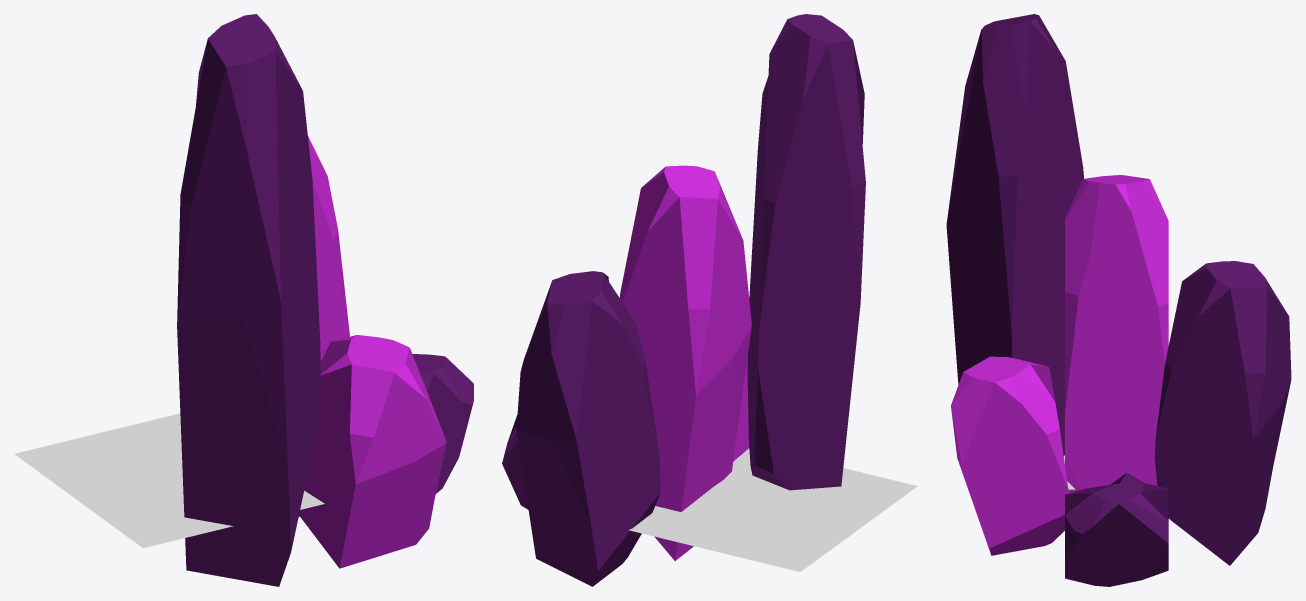
Rendered from rocks.fbx.
3 renders of one model, left to right at view 1: azimuth 30°, elevation 25°; view 2: azimuth 150°, elevation 25°; view 3: azimuth 270°, elevation 25°, orthographic. The views are drawn at different scales.
Visible parts, largest first — view 1: rock1, Plane; view 2: rock1, Plane; view 3: rock1.
Part boxes in pixels (x1=…): rock1: x1=177, y1=14, x2=473, y2=586; Plane: x1=14, y1=413, x2=324, y2=548; rock1: x1=502, y1=14, x2=865, y2=586; Plane: x1=628, y1=448, x2=917, y2=571; rock1: x1=946, y1=14, x2=1291, y2=586.
Bounding box in the file's own units: 739 × 1014 × 665.
